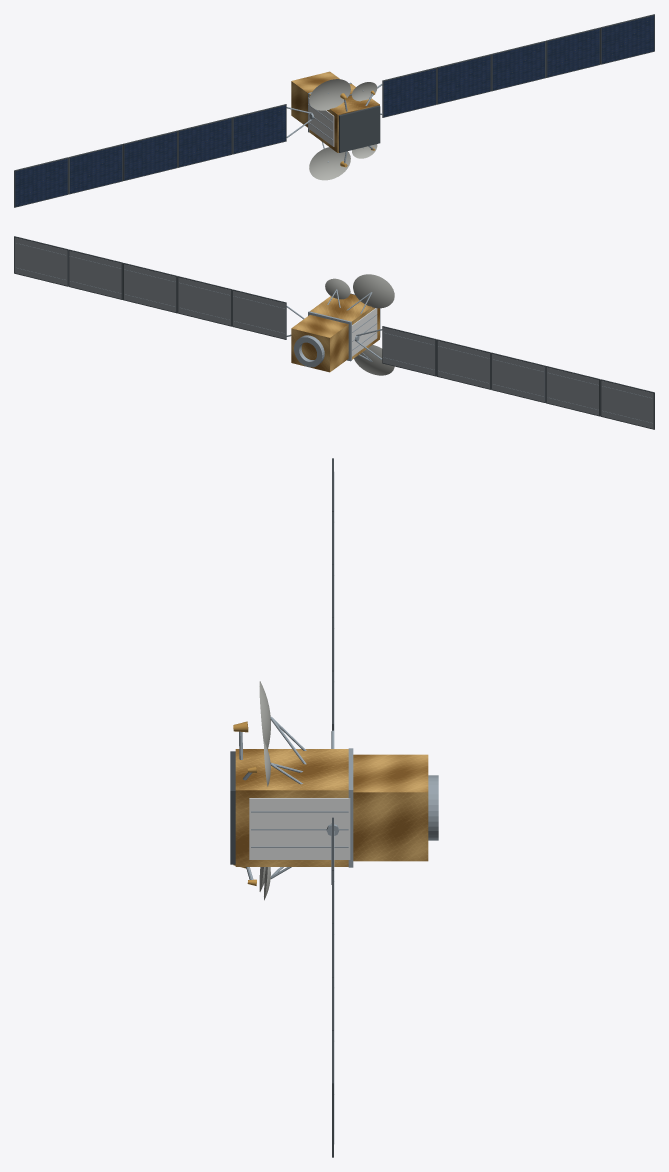
File: ref-spacebus-4000c1-29349.glb
The picture shows the model from 3 angles, top to bottom: view 1: azimuth 30°, elevation 25°; view 2: azimuth 150°, elevation 25°; view 3: azimuth 270°, elevation 25°; orthographic projection. The views are drawn at different scales.
Visible parts, largest first — view 1: Solar cell panel (×10), Communications reflector (×3), Earth-facing deck, Solar panel frame (×4), Service module, Payload module, Radiator face; view 2: Rear array substrate (×10), Service module, Communications reflector (×3), Solar panel frame (×4), Payload module, Radiator face, Launch adapter ring, Module interface; view 3: Service module, Payload module, Radiator face.
Part boxes in pixels (box(x1,y1,x2,y2)): Solar cell panel (×10): box(15, 15, 654, 206); Communications reflector (×3): box(309, 79, 377, 180); Earth-facing deck: box(338, 105, 380, 152); Solar panel frame (×4): box(14, 27, 600, 207); Service module: box(291, 71, 339, 127); Payload module: box(309, 84, 379, 152); Radiator face: box(308, 97, 334, 146); Rear array substrate (×10): box(14, 237, 653, 428); Service module: box(291, 315, 348, 372); Communications reflector (×3): box(325, 274, 394, 375); Solar panel frame (×4): box(68, 249, 654, 429); Payload module: box(310, 294, 379, 359); Radiator face: box(351, 308, 377, 356); Launch adapter ring: box(294, 335, 324, 367); Module interface: box(308, 311, 351, 361); Service module: box(353, 754, 428, 861); Payload module: box(235, 749, 348, 866); Radiator face: box(249, 798, 350, 859).
Bounding box in the file's own units: 37.97 × 5.65 × 5.34.
Materials: 8 (2 with a texture image).
